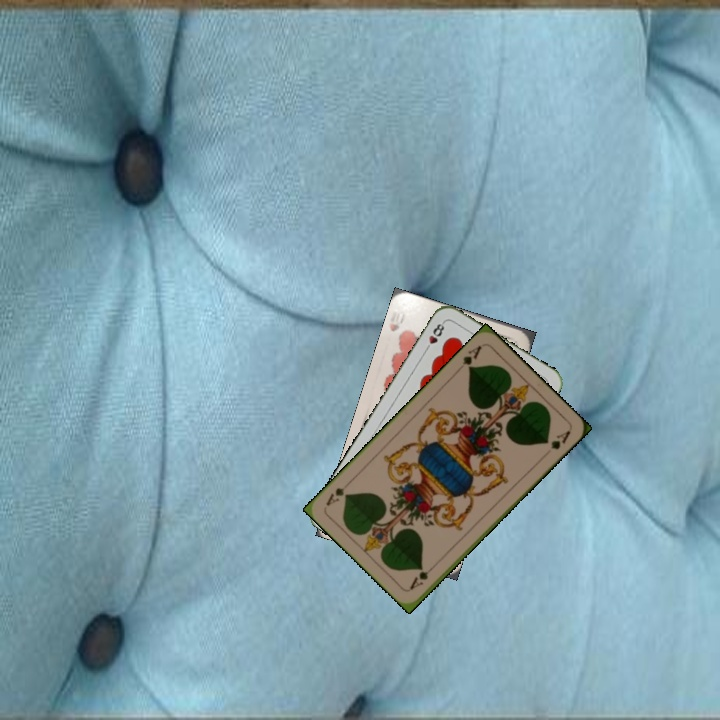GA: (405, 560, 438, 592), (453, 341, 484, 374)
H10: (385, 307, 407, 334)
H8: (421, 318, 447, 354)
